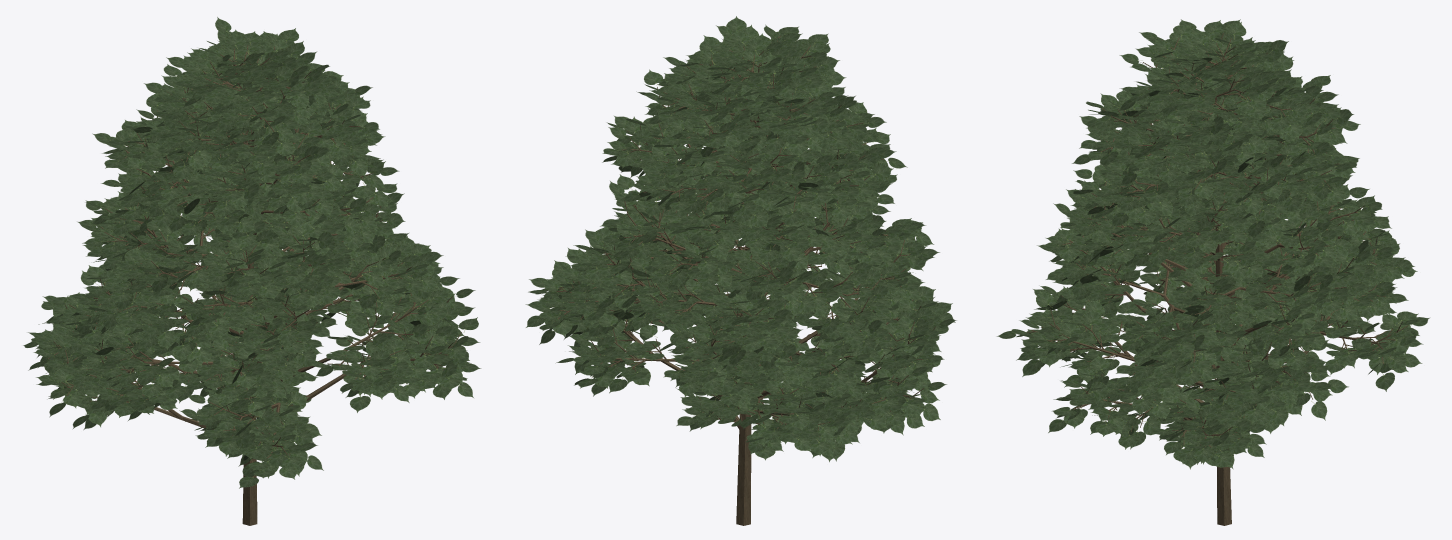
File: tree-01.glb
3 views of the same model, side by side, from view 1: azimuth 30°, elevation 25°; view 2: azimuth 150°, elevation 25°; view 3: azimuth 270°, elevation 25° (orthographic).
Parts seen in each view (by area): view 1: Tilia_europaea_50y_01_LoD2B; view 2: Tilia_europaea_50y_01_LoD2B; view 3: Tilia_europaea_50y_01_LoD2B.
Part boxes in pixels (x1,y1,x2,y2): Tilia_europaea_50y_01_LoD2B: (23, 17, 481, 525); Tilia_europaea_50y_01_LoD2B: (525, 16, 956, 525); Tilia_europaea_50y_01_LoD2B: (997, 19, 1429, 525).
Size of the model in its own units: 10.92 by 11.87 by 9.89.
Materials: 2 (2 with a texture image).
